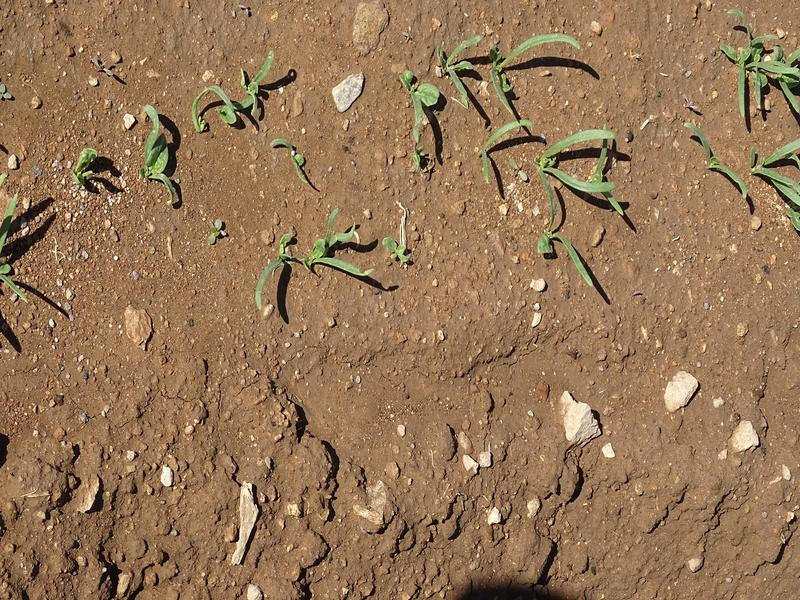Espinaca: (398, 46, 630, 217), (64, 58, 274, 201), (698, 37, 800, 222), (224, 204, 374, 319), (4, 187, 19, 318)
